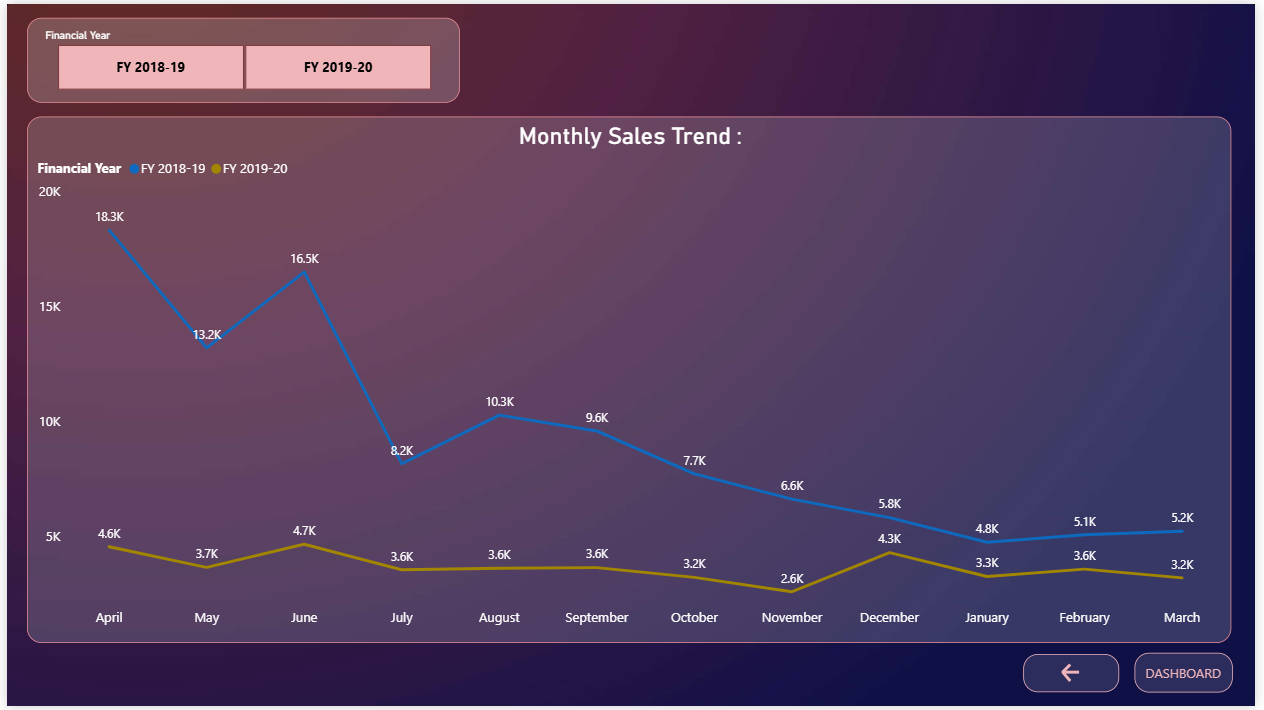

The page's visual inventory and layout, read from the dashboard file:
{"tool":"powerbi","page":{"name":"Dashboard 11","canvas":[1280,720],"ordinal":10},"visuals":[{"type":"actionButton","box":[1155.8,665,100.6,40.5],"z":0},{"type":"actionButton","box":[1041.7,666.3,98.2,39.3],"z":1000},{"type":"lineChart","fields":{"Category":["Orders.Month Name for FY"],"Y":["Details.Total Sales"],"Series":["Orders.Financial Year"]},"box":[20.9,115.3,1235.6,539.9],"z":2000},{"type":"slicer","fields":{"Values":["Orders.Financial Year"]},"box":[20.9,13.5,444.2,87.1],"z":3000}]}

Visuals, with their boxes in screenshot pixels (x1, y1, x2, y2), scaled from the page's 1280x720 canvas onto the 1264x710 screenshot:
actionButton: x1=1141, y1=656, x2=1241, y2=696
actionButton: x1=1029, y1=657, x2=1126, y2=696
lineChart - Orders.Month Name for FY x Details.Total Sales: x1=21, y1=114, x2=1241, y2=646
slicer - Orders.Financial Year: x1=21, y1=13, x2=459, y2=99
